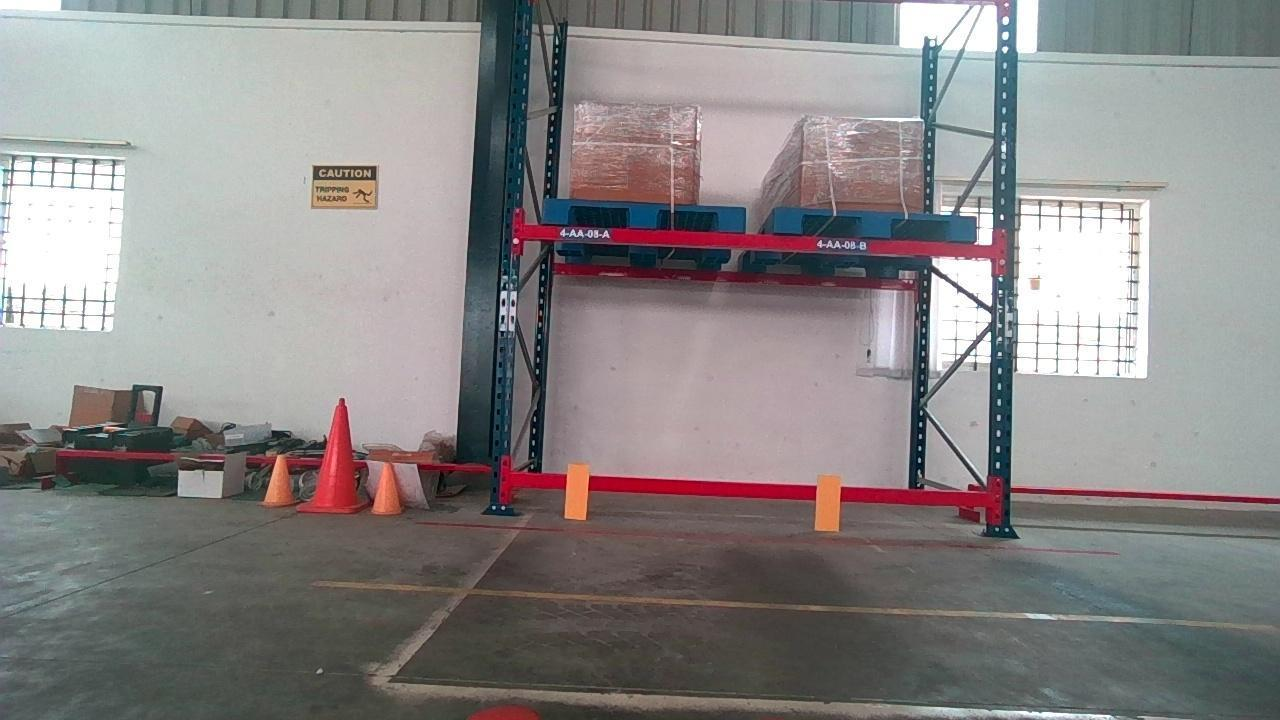h_rack: (513, 226, 993, 258), (505, 477, 988, 506)
orange_strip: (815, 474, 841, 530), (564, 464, 590, 518)
red_line: (412, 517, 1125, 557)
small_pallet: (773, 209, 978, 237), (537, 200, 740, 227)
yellow_line: (316, 576, 1263, 629)
